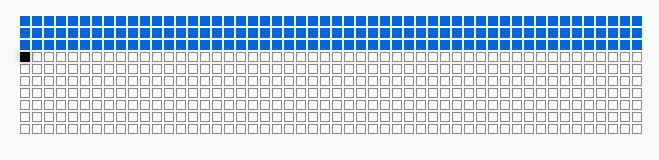
Test: timeline grid tooltip › shows for the focused week
The image size is (659, 160).
Focus the cell named "Age 0, week 1 (passed)" at (25, 21), box [20,16,30,26]
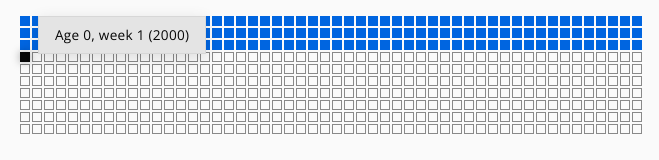
Expected: the tooltip shows "Age 0, week 1", [55,25,189,44]
